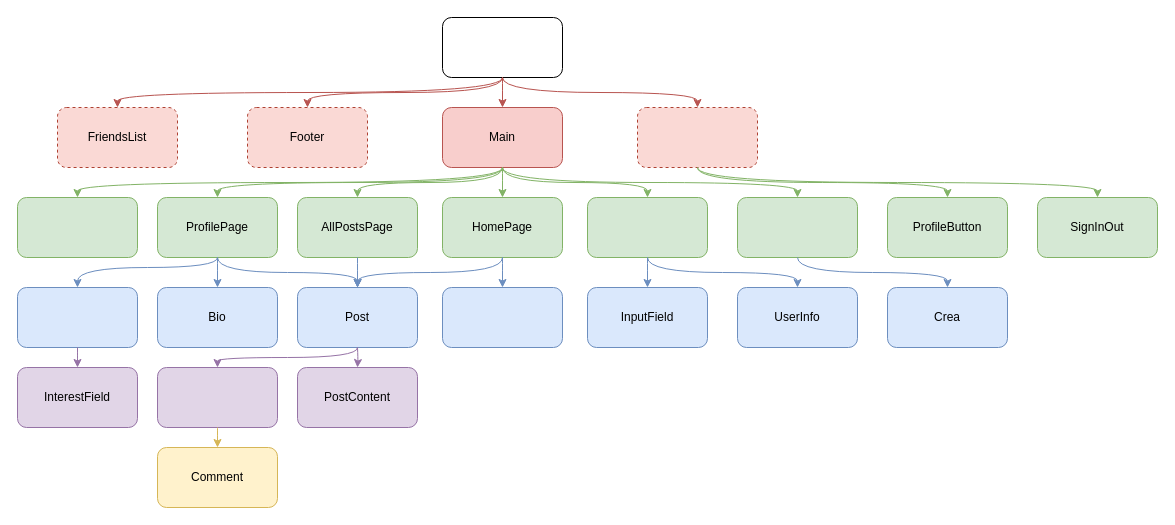
Some shapes in this 1175 by 525 pixel diagram are drawn without their labels. The centre of each missing label's shape, as x and y in pixels:
AdminDashboard: point 797,227
App: point 502,47
CommentSection: point 217,397
CreatePost: point 647,227
EditProfilePage: point 77,227
Interests: point 77,317
TopBar: point 697,137
UpdatesBoard: point 502,317
